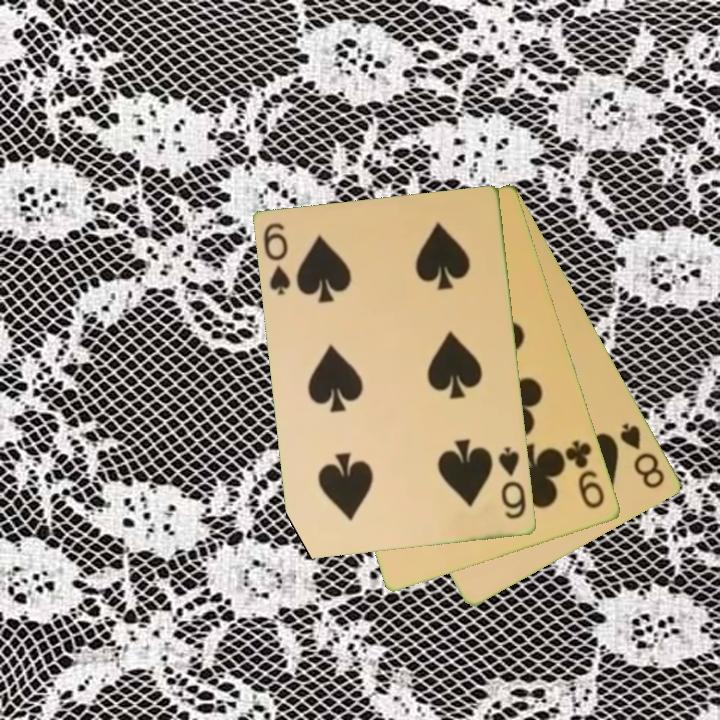6s: (495, 443, 530, 523), (260, 219, 294, 298)
8s: (616, 419, 669, 492)
9c: (562, 437, 608, 512)
